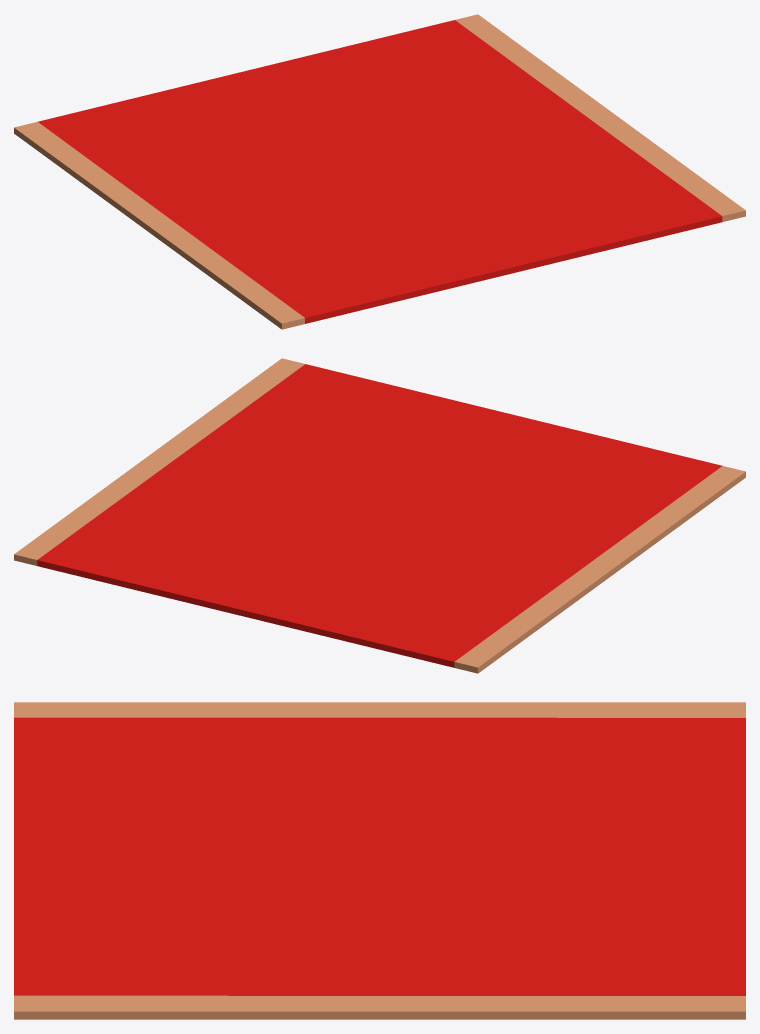
The model's file is carpet-wide.fbx.
The picture shows the model from 3 angles, top to bottom: view 1: azimuth 30°, elevation 25°; view 2: azimuth 150°, elevation 25°; view 3: azimuth 270°, elevation 25°; orthographic projection. The views are drawn at different scales.
Visible parts, largest first — view 1: carpet-wide; view 2: carpet-wide; view 3: carpet-wide.
Boxes of the visible parts, x1,y1,x2,y2 form: carpet-wide: (14, 14, 745, 329); carpet-wide: (14, 358, 745, 673); carpet-wide: (14, 702, 745, 1019).
Size of the model in its own units: 400 by 5 by 400.
